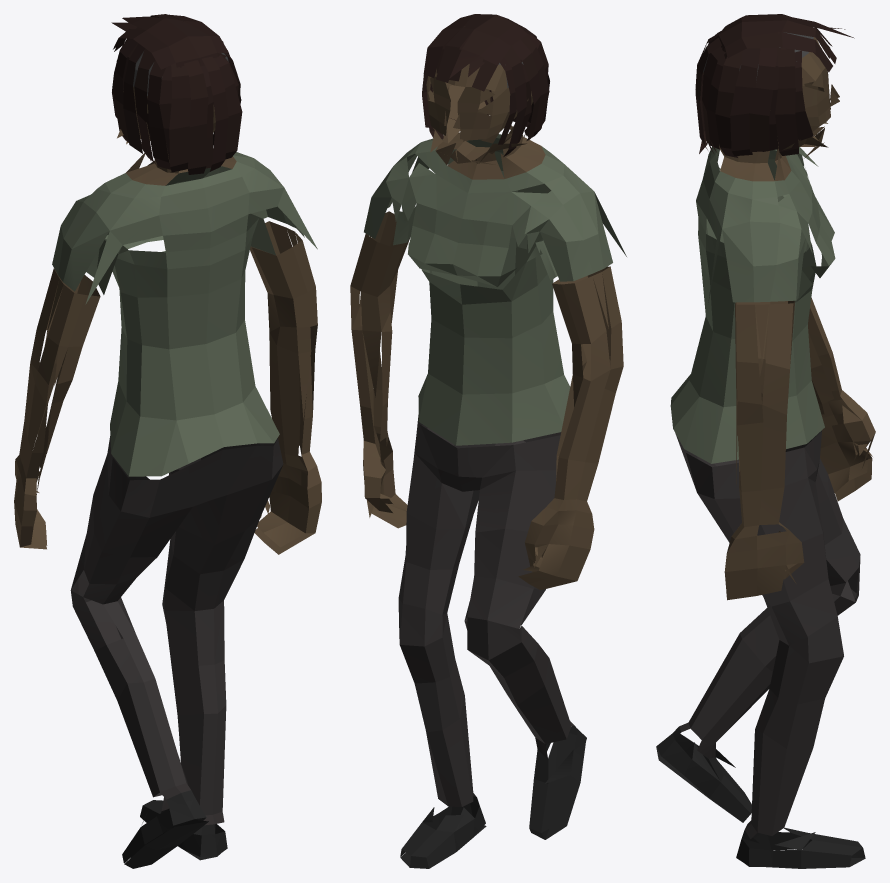
The model's file is person_7_w0.fbx.
3 renders of one model, left to right at view 1: azimuth 30°, elevation 25°; view 2: azimuth 150°, elevation 25°; view 3: azimuth 270°, elevation 25°, orthographic.
Visible parts, largest first — view 1: Female; view 2: Female; view 3: Female.
Boxes of the visible parts, x1,y1,x2,y2 form: Female: [14, 14, 321, 868]; Female: [350, 14, 626, 868]; Female: [656, 14, 875, 868].
Size of the model in its own units: 0.332 by 0.9995 by 0.241.
